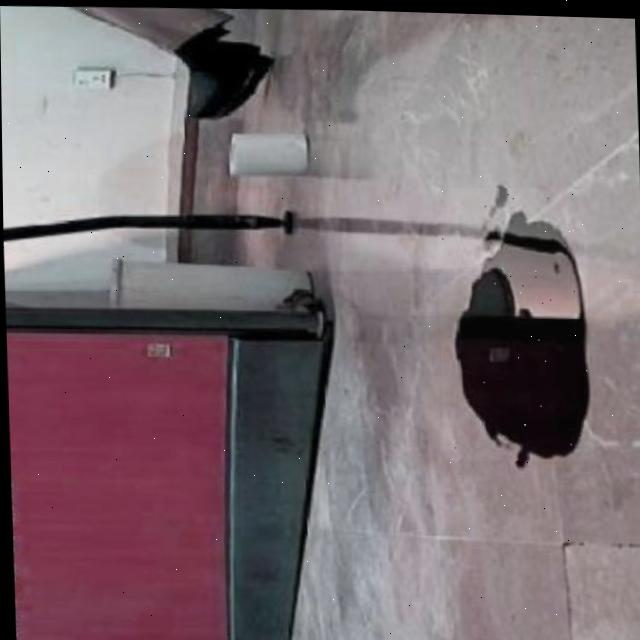spillage: (439, 185, 585, 457)
